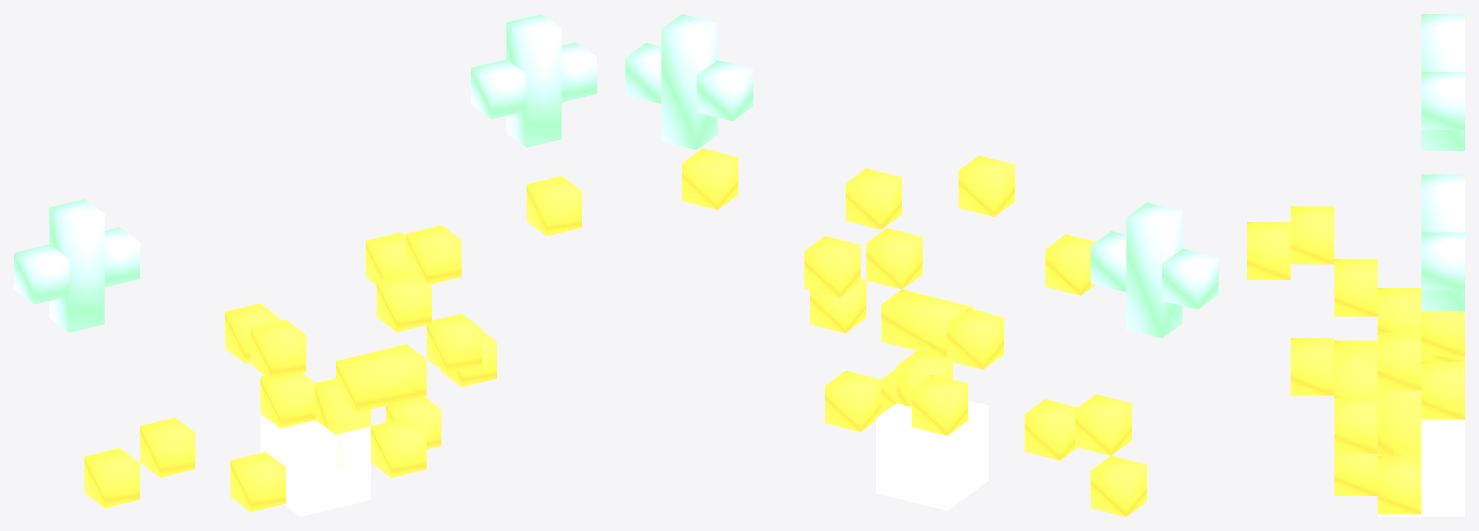
File: repair-sparks.glb
3 renders of one model, left to right at view 1: azimuth 30°, elevation 25°; view 2: azimuth 150°, elevation 25°; view 3: azimuth 270°, elevation 25°, orthographic. The views are drawn at different scales.
Parts seen in each view (by area): view 1: layer.spark, layer.plus, layer.core; view 2: layer.spark, layer.plus, layer.core; view 3: layer.spark, layer.plus, layer.core.
Boxes of the visible parts, box(x1,y1,x2,y2) form: layer.spark: box(84, 176, 581, 511); layer.plus: box(14, 14, 596, 332); layer.core: box(260, 414, 370, 516); layer.spark: box(682, 148, 1146, 516); layer.plus: box(625, 14, 1218, 338); layer.core: box(876, 400, 988, 510); layer.spark: box(1247, 206, 1464, 514); layer.plus: box(1421, 14, 1464, 311); layer.core: box(1377, 419, 1464, 516).
Size of the model in its own units: 0.5 by 0.3438 by 0.1562.
